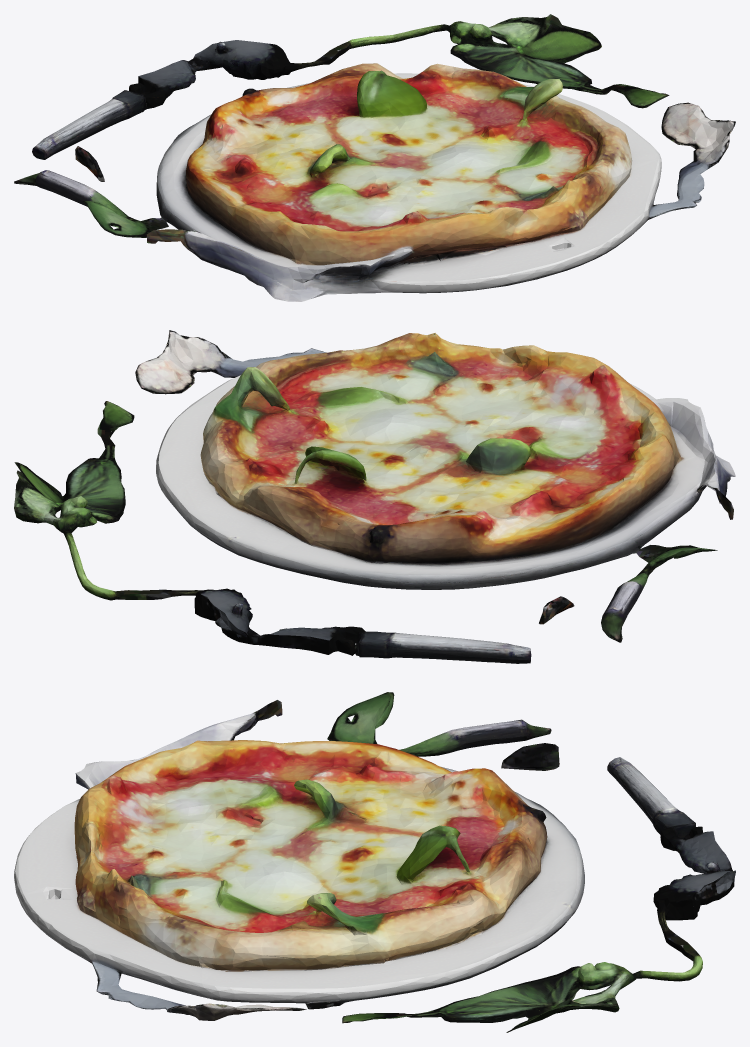
Rendered from pizza.glb.
The picture shows the model from 3 angles, top to bottom: view 1: azimuth 30°, elevation 25°; view 2: azimuth 150°, elevation 25°; view 3: azimuth 270°, elevation 25°; orthographic projection. The views are drawn at different scales.
Parts seen in each view (by area): view 1: world; view 2: world; view 3: world.
Boxes of the visible parts, x1=… form: world: x1=14, y1=14, x2=735, y2=301; world: x1=14, y1=330, x2=735, y2=663; world: x1=14, y1=692, x2=735, y2=1032.
Size of the model in its own units: 1 by 0.1423 by 0.9653.
1 material, 1 textured.
